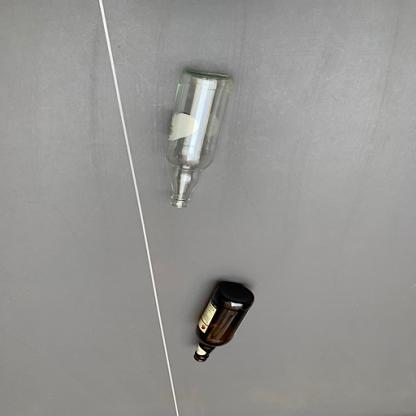trash: (153, 63, 242, 215), (188, 282, 258, 364)
